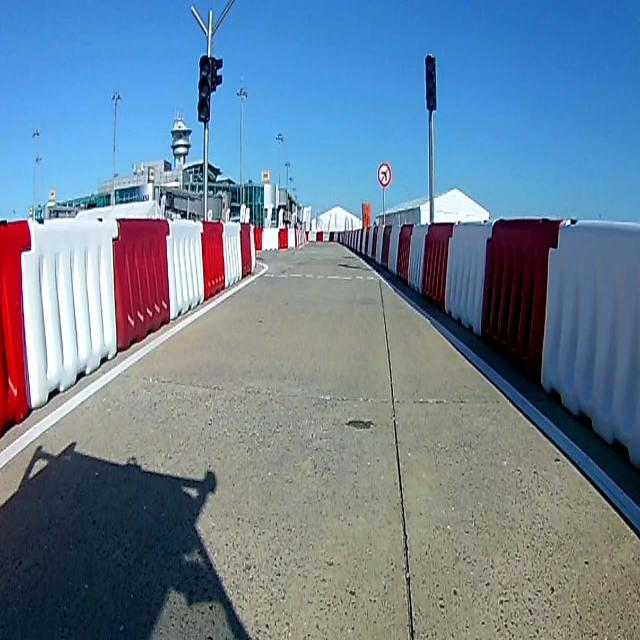soladonulmez: (377, 163, 391, 188)
